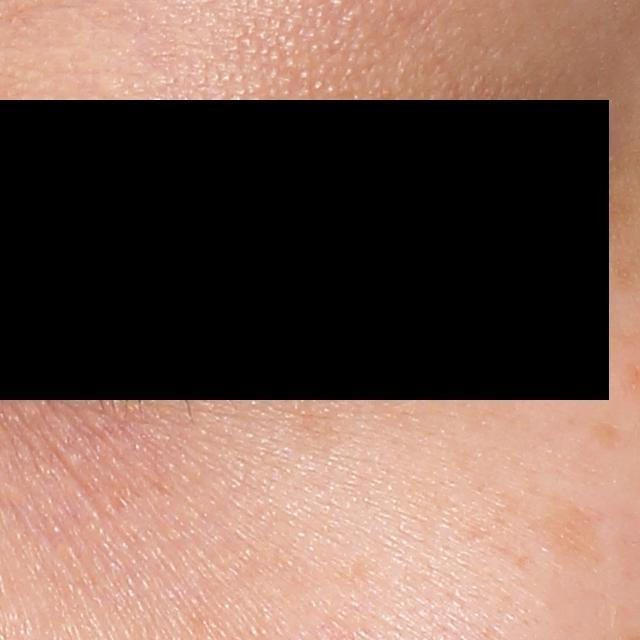melasma: (552, 506, 607, 561), (588, 417, 623, 452)
